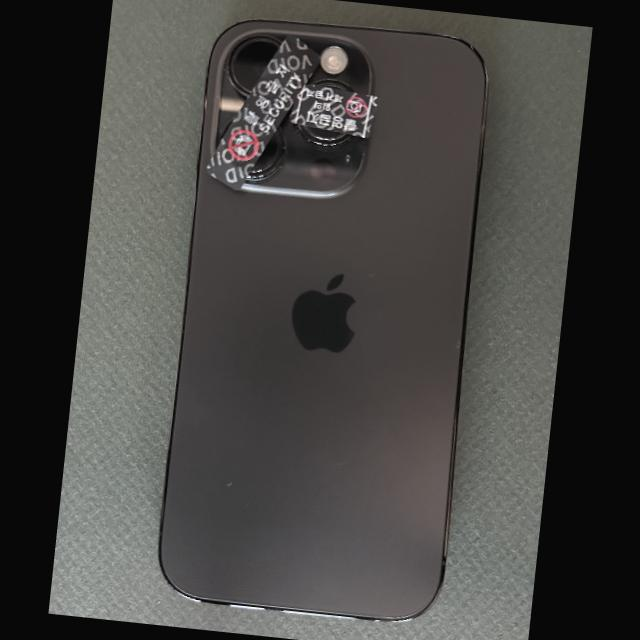lens: (225, 33, 282, 96), (245, 128, 286, 181), (299, 125, 351, 145)
phone: (157, 18, 490, 623)
sticker: (206, 34, 321, 190), (288, 84, 378, 138)
